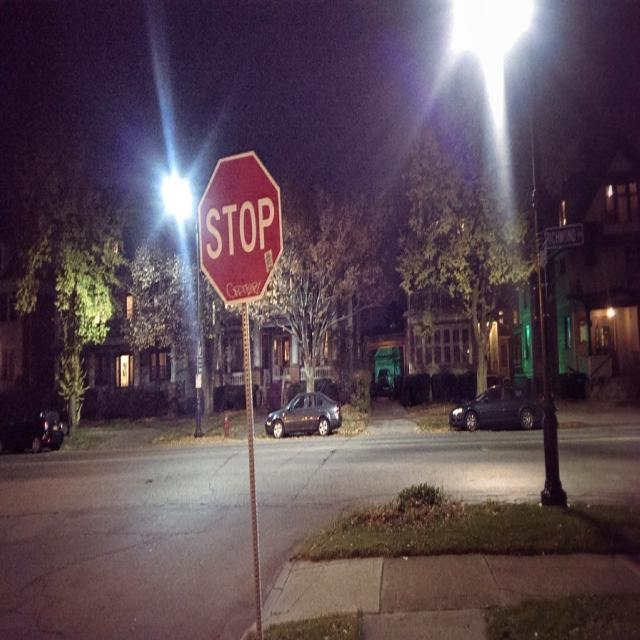Stop-sign: (197, 147, 282, 307)
